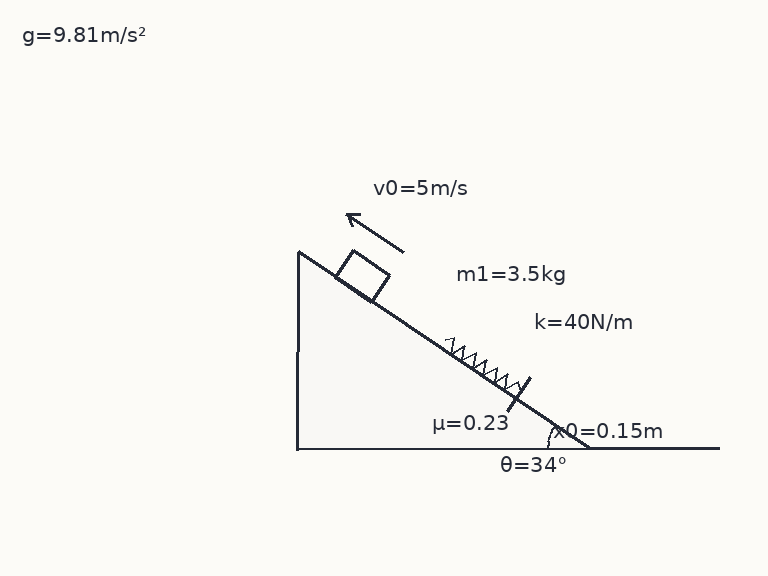block: (333, 248, 391, 304)
ramp: (295, 250, 590, 450)
spring: (443, 336, 522, 393)
